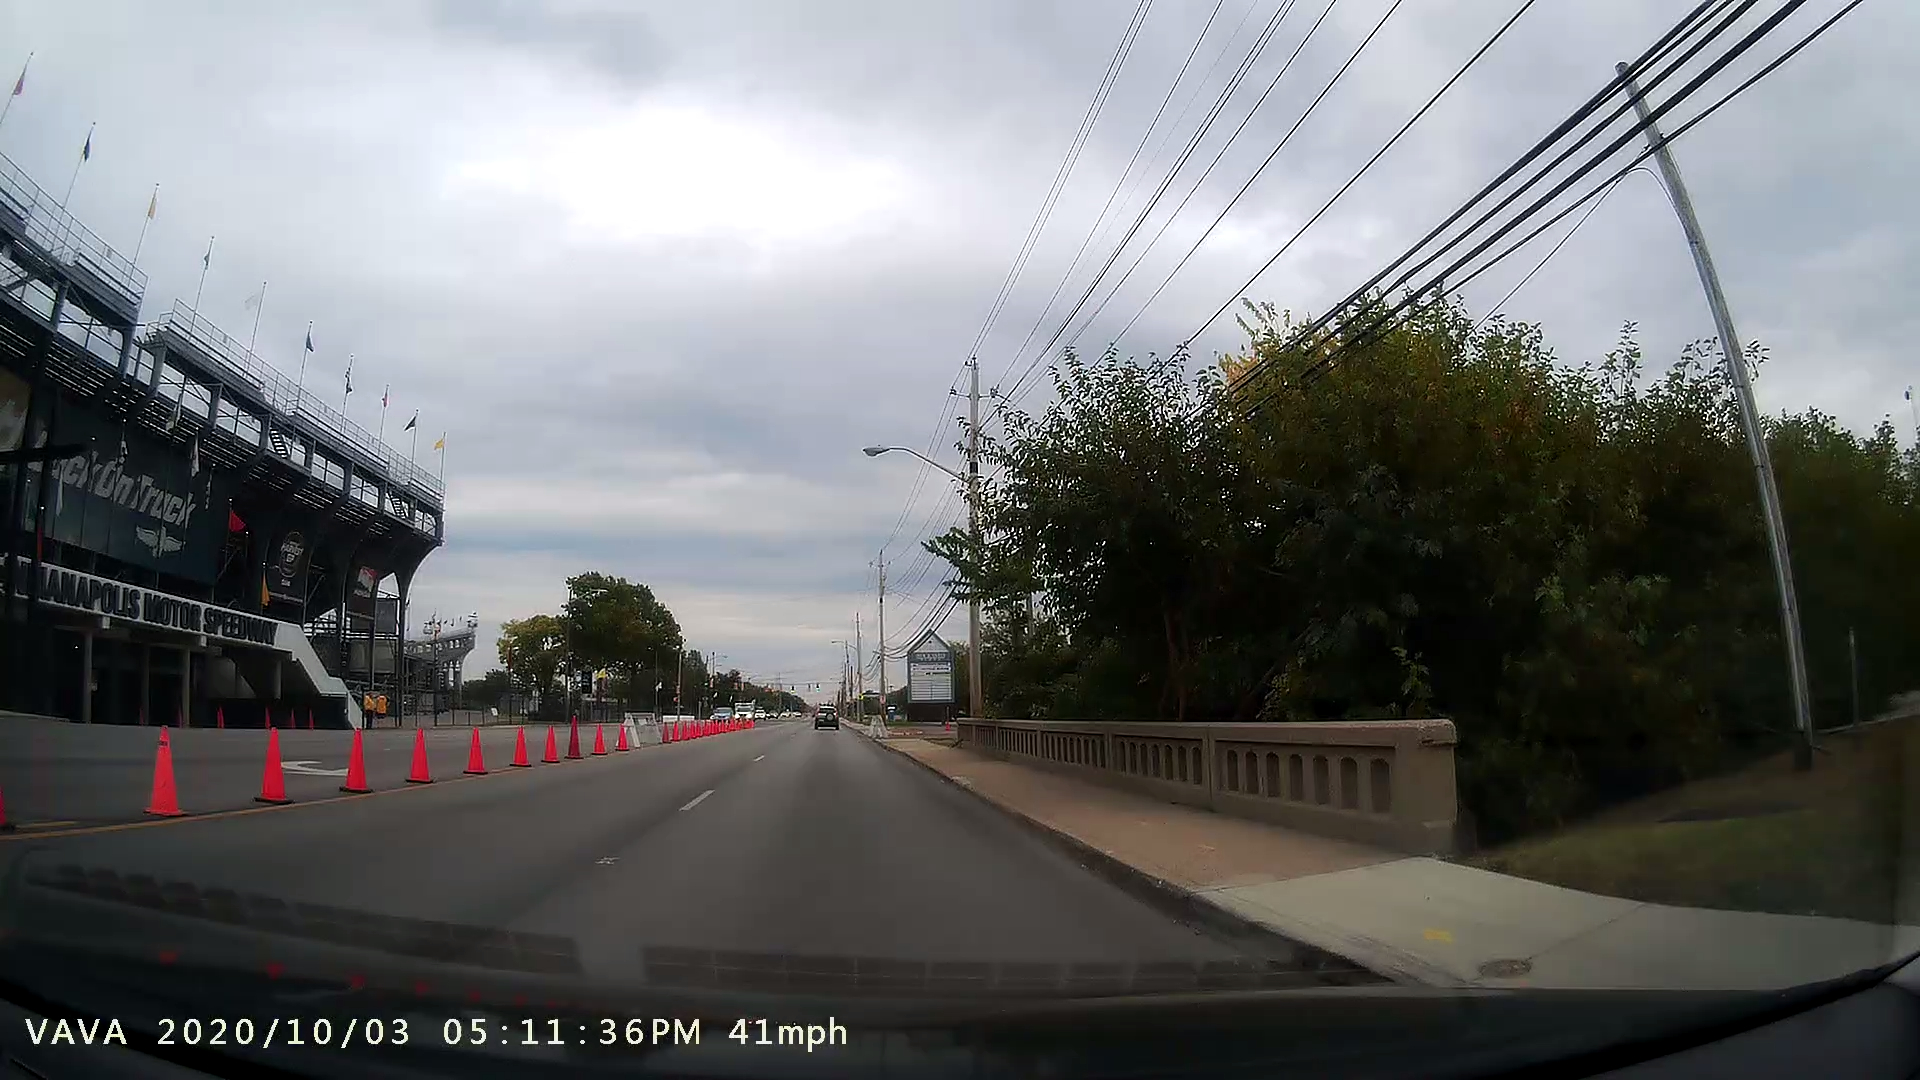const_cone: (136, 705, 204, 818), (243, 712, 305, 811), (328, 704, 385, 802), (401, 704, 444, 791), (451, 705, 496, 781), (504, 712, 534, 771)
